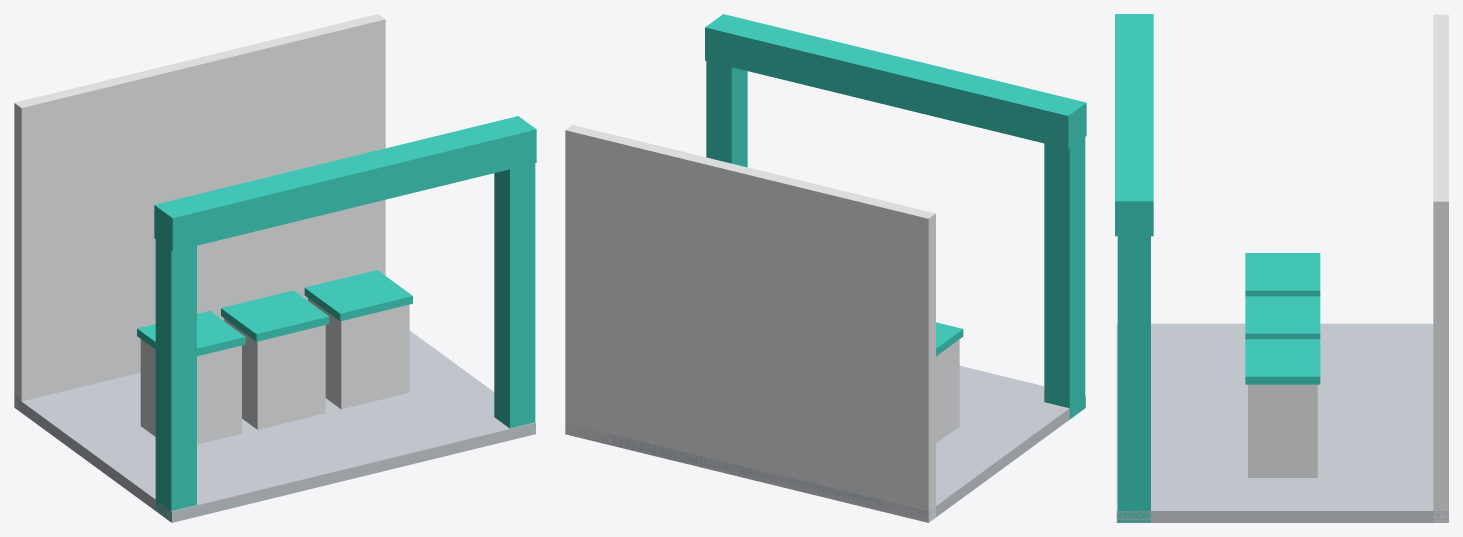
The picture shows the model from 3 angles, left to right: view 1: azimuth 30°, elevation 25°; view 2: azimuth 150°, elevation 25°; view 3: azimuth 270°, elevation 25°; orthographic projection. The views are drawn at different scales.
Visible parts, largest first — view 1: Exhibition Booth Concept; view 2: Exhibition Booth Concept; view 3: Exhibition Booth Concept.
Part boxes in pixels (left/top/right/bottom): Exhibition Booth Concept: left=14, top=14, right=536, bottom=522; Exhibition Booth Concept: left=565, top=14, right=1086, bottom=522; Exhibition Booth Concept: left=1115, top=14, right=1448, bottom=522.
Bounding box in the file's own units: 4 × 3.2 × 3.01.
